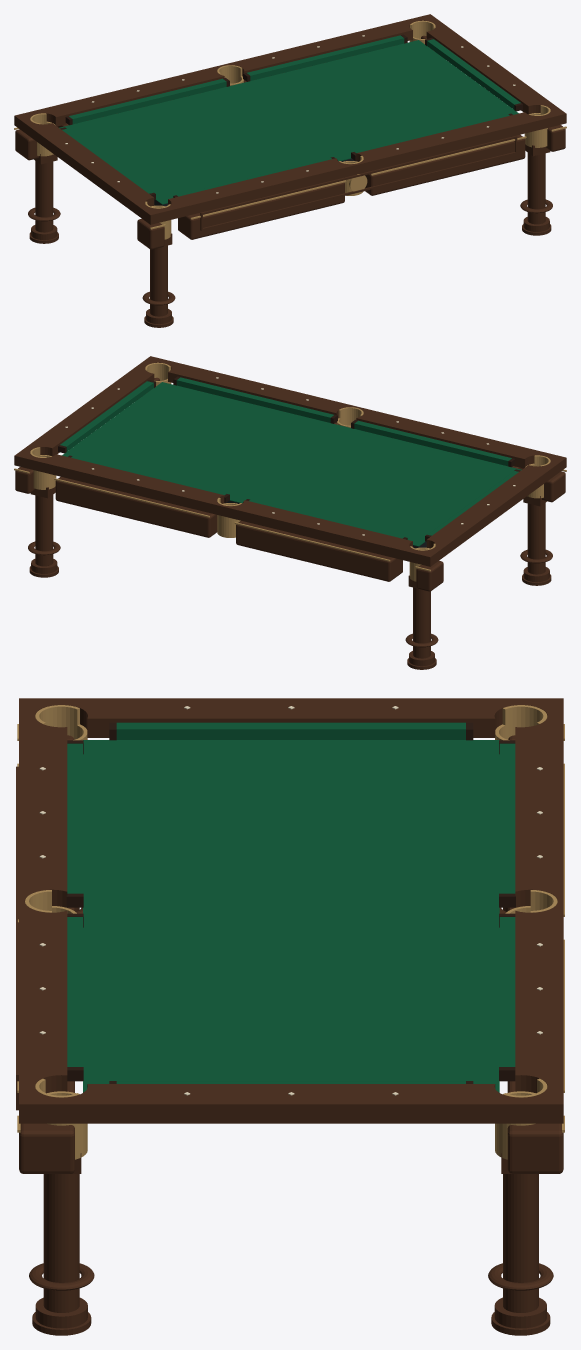
Rendered from table_a.glb.
3 views of the same model, one above another, from view 1: azimuth 30°, elevation 25°; view 2: azimuth 150°, elevation 25°; view 3: azimuth 270°, elevation 25° (orthographic). The views are drawn at different scales.
Visible parts, largest first — view 1: SM_Cloth, SM_Rails, SM_Apron, SM_Legs, SM_Cushions, SM_Moldings, SM_PocketWells, SM_ApronReveal, SM_Facings; view 2: SM_Cloth, SM_Rails, SM_Apron, SM_Legs, SM_Cushions, SM_PocketWells, SM_ApronReveal, SM_Facings; view 3: SM_Cloth, SM_Rails, SM_Cushions, SM_Legs, SM_Apron, SM_PocketWells, SM_Facings, SM_Moldings, SM_ApronReveal.
Boxes of the visible parts, left/top/right/bottom form: SM_Cloth: left=59, top=40, right=518, bottom=204; SM_Rails: left=14, top=14, right=566, bottom=224; SM_Apron: left=15, top=35, right=565, bottom=249; SM_Legs: left=28, top=144, right=552, bottom=327; SM_Cushions: left=62, top=35, right=520, bottom=196; SM_Moldings: left=200, top=135, right=517, bottom=230; SM_PocketWells: left=30, top=20, right=550, bottom=239; SM_ApronReveal: left=14, top=126, right=566, bottom=229; SM_Facings: left=60, top=34, right=522, bottom=199; SM_Cloth: left=62, top=382, right=521, bottom=546; SM_Rails: left=14, top=356, right=566, bottom=566; SM_Apron: left=15, top=377, right=565, bottom=591; SM_Legs: left=28, top=486, right=552, bottom=669; SM_Cushions: left=60, top=377, right=518, bottom=538; SM_PocketWells: left=30, top=362, right=550, bottom=581; SM_ApronReveal: left=14, top=468, right=566, bottom=571; SM_Facings: left=58, top=376, right=520, bottom=541; SM_Cloth: left=83, top=740, right=499, bottom=1092; SM_Rails: left=19, top=698, right=563, bottom=1123; SM_Cushions: left=67, top=722, right=515, bottom=1083; SM_Legs: left=29, top=907, right=553, bottom=1335; SM_Apron: left=19, top=735, right=563, bottom=1173; SM_PocketWells: left=25, top=705, right=557, bottom=1159; SM_Facings: left=66, top=722, right=515, bottom=1083; SM_Moldings: left=16, top=766, right=18, bottom=1110; SM_ApronReveal: left=17, top=724, right=564, bottom=1132.
Bounding box in the file's own units: 2.93 × 0.803 × 1.67.
